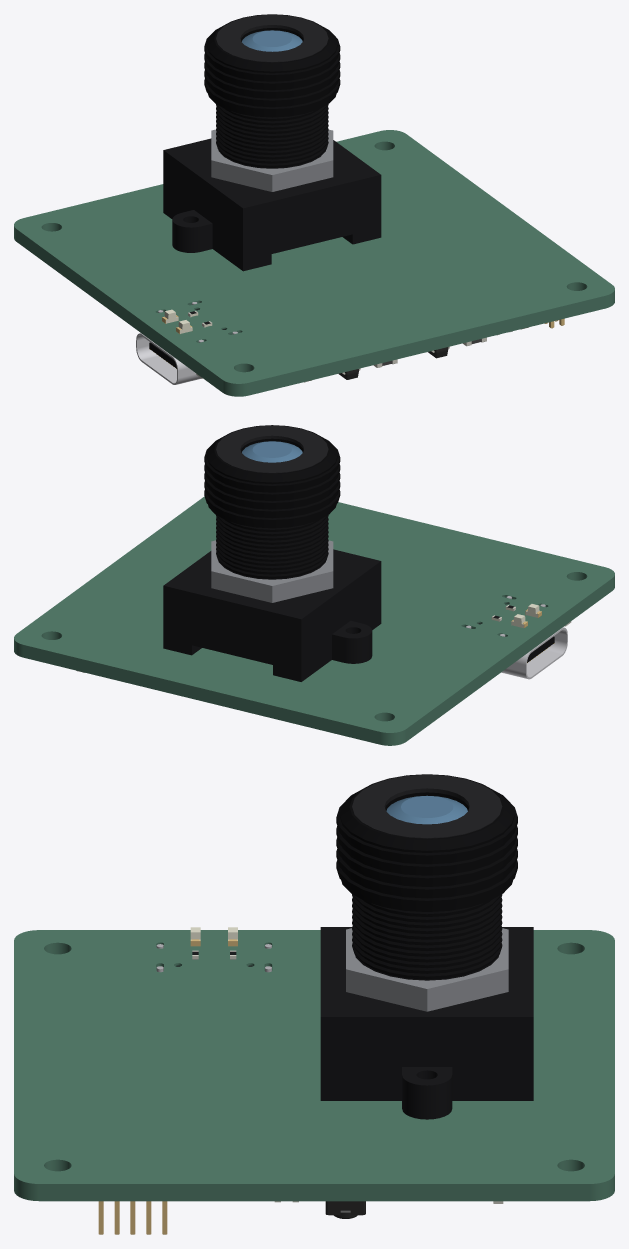
File: apriltag_cam_full.glb
3 views of the same model, one above another, from view 1: azimuth 30°, elevation 25°; view 2: azimuth 150°, elevation 25°; view 3: azimuth 270°, elevation 25° (orthographic). The views are drawn at different scales.
Visible parts, largest first — view 1: =>[0:1:1:69], c0 (×2), c2, c3, c1, c4; view 2: =>[0:1:1:69], c0 (×2), c2, c3, c1, c4; view 3: =>[0:1:1:69], c0, c2, c3, c1, c4, =>[0:1:1:68], =>[0:1:1:66].
Part boxes in pixels (bbox=[...]): =>[0:1:1:69]: bbox=[14, 130, 614, 396]; c0 (×2): bbox=[136, 138, 381, 384]; c2: bbox=[204, 14, 340, 168]; c3: bbox=[216, 14, 328, 62]; c1: bbox=[211, 129, 333, 191]; c4: bbox=[242, 30, 302, 51]; =>[0:1:1:69]: bbox=[14, 496, 614, 745]; c0 (×2): bbox=[163, 549, 567, 681]; c2: bbox=[204, 425, 340, 579]; c3: bbox=[216, 425, 328, 473]; c1: bbox=[211, 540, 333, 602]; c4: bbox=[242, 441, 302, 462]; =>[0:1:1:69]: bbox=[14, 930, 614, 1201]; c0: bbox=[320, 927, 533, 1119]; c2: bbox=[336, 774, 517, 980]; c3: bbox=[352, 774, 502, 838]; c1: bbox=[346, 928, 508, 1011]; c4: bbox=[386, 795, 467, 824]; =>[0:1:1:68]: bbox=[98, 1201, 167, 1234]; =>[0:1:1:66]: bbox=[325, 1201, 365, 1218].
Bounding box in the file's own units: 0.048 × 0.0281 × 0.048.
